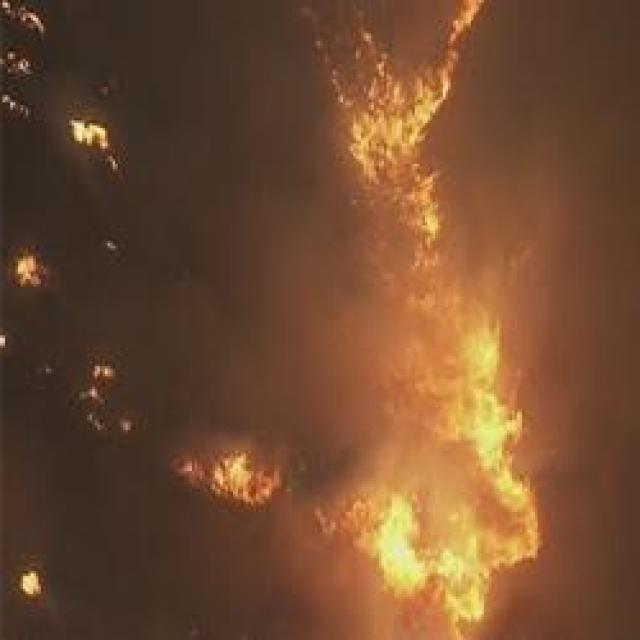fire: (378, 496, 428, 590), (470, 393, 525, 465)
smoke: (481, 210, 553, 328)
